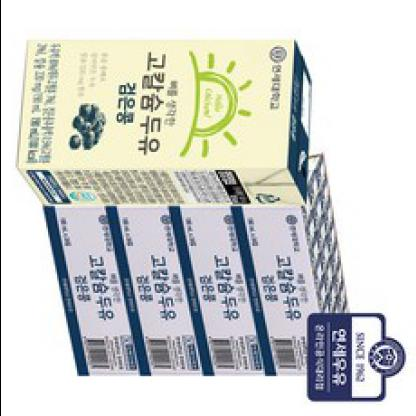tetra: (9, 21, 324, 216)
